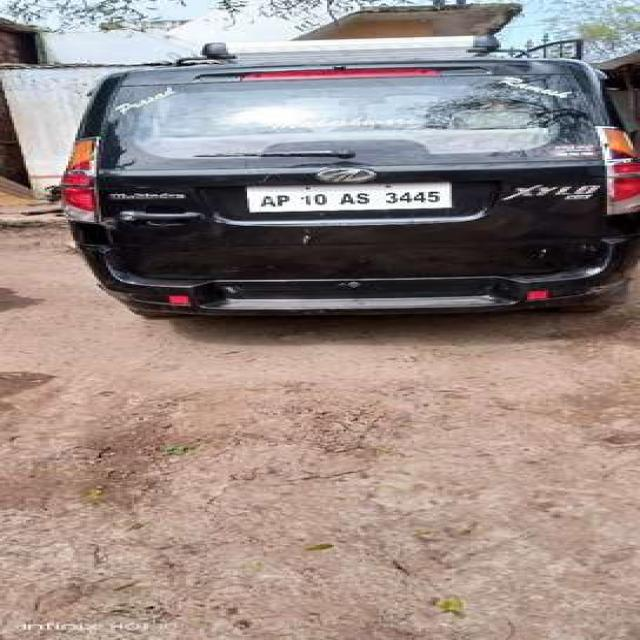license-plate: (240, 180, 447, 212)
